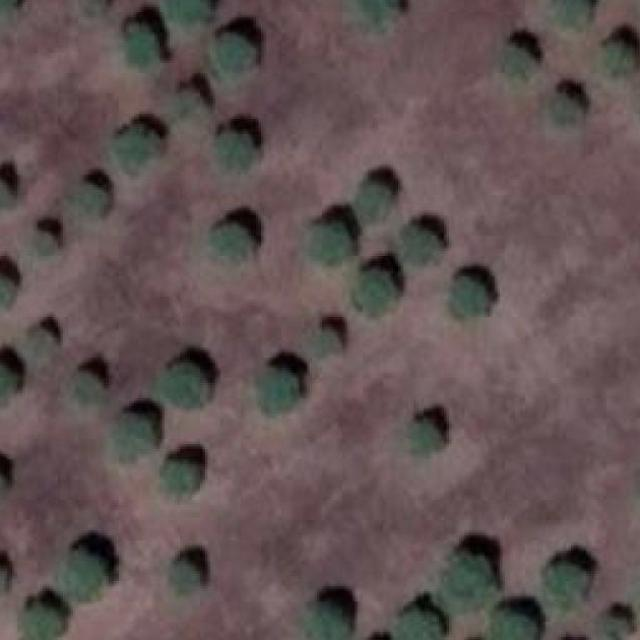Tree: (435, 552, 495, 612), (58, 548, 111, 604), (112, 119, 159, 175), (346, 271, 396, 321), (204, 33, 256, 78), (106, 414, 152, 464), (160, 363, 212, 405), (209, 132, 252, 182), (15, 591, 58, 640), (249, 368, 291, 414), (210, 219, 253, 262), (160, 457, 202, 501), (304, 224, 350, 263), (398, 229, 444, 268), (446, 279, 487, 322), (545, 564, 586, 607), (165, 559, 207, 598), (593, 38, 632, 80), (122, 28, 159, 70), (300, 606, 345, 640), (408, 417, 442, 457), (546, 91, 581, 129), (487, 614, 538, 640), (394, 609, 436, 640), (356, 185, 393, 220), (174, 83, 208, 121), (549, 0, 592, 30), (25, 229, 60, 263), (352, 0, 397, 25), (22, 328, 56, 361), (70, 366, 101, 402), (498, 45, 530, 79), (71, 185, 104, 215), (161, 0, 213, 19), (0, 362, 18, 413), (595, 614, 629, 640), (315, 326, 339, 356), (0, 274, 14, 317), (78, 0, 109, 19), (0, 178, 15, 208), (0, 0, 21, 14), (0, 464, 7, 498)
